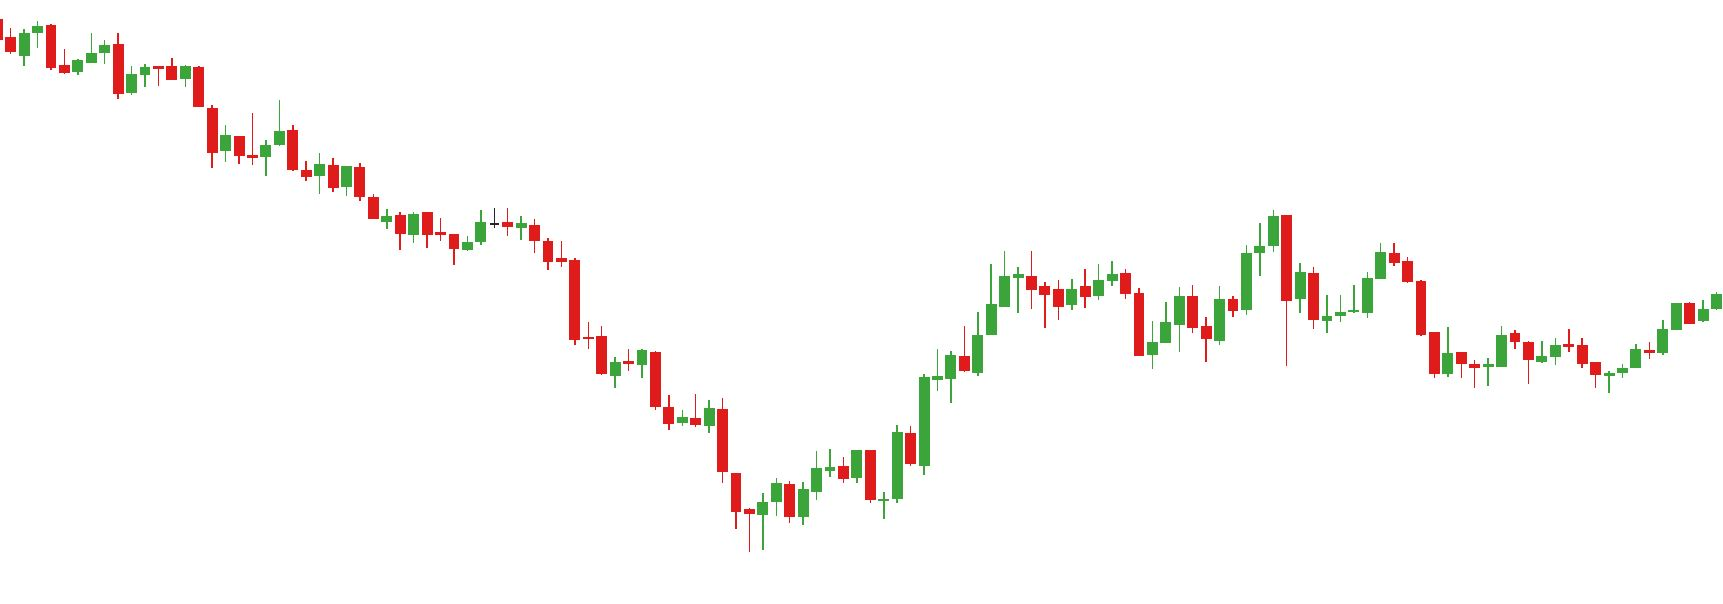sell: (1294, 242, 1414, 306)
